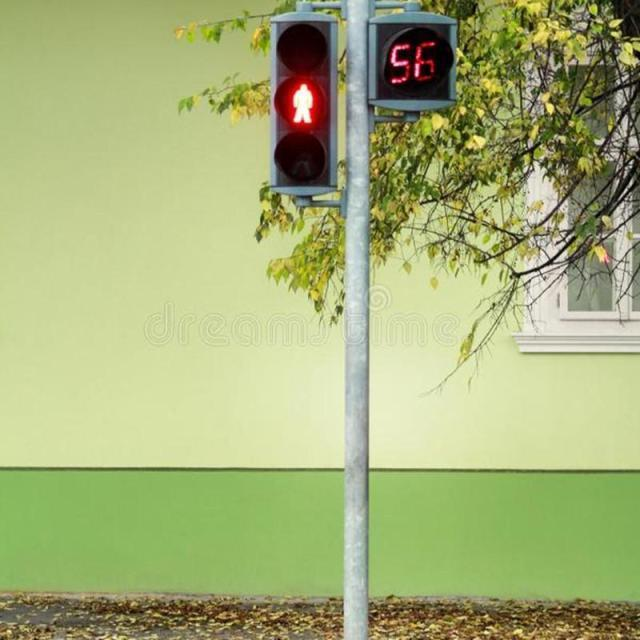red-crossing: (272, 76, 330, 128)
